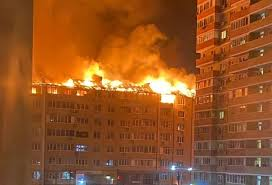fire: (29, 44, 198, 112)
